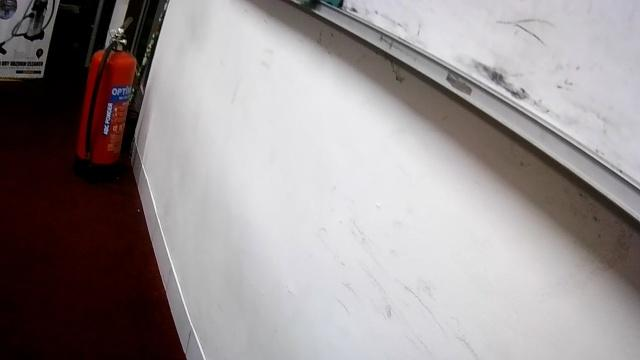APAR: (71, 16, 136, 175)
